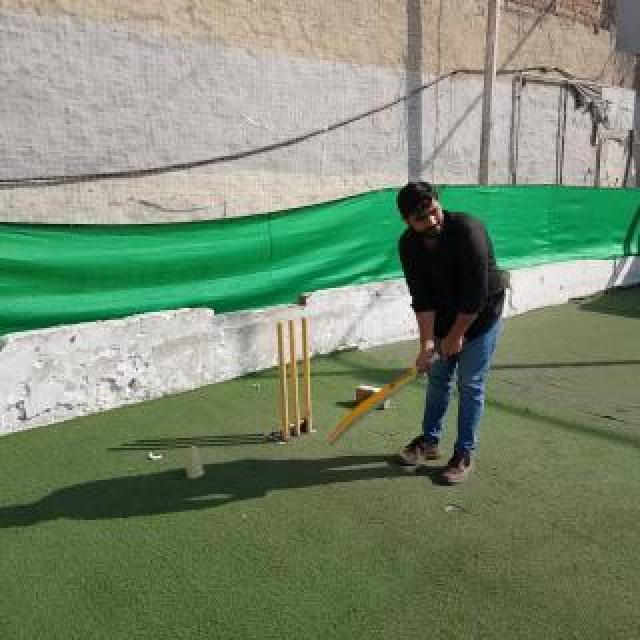bat: (330, 336, 466, 446)
